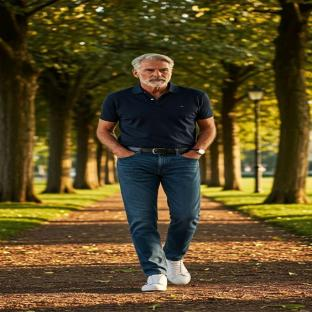Human: (97, 53, 215, 291)
